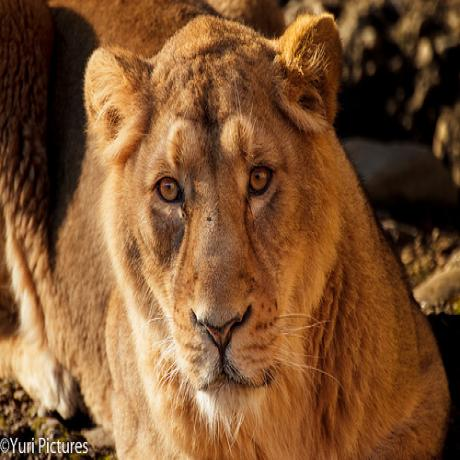Lion: (0, 0, 447, 460)
